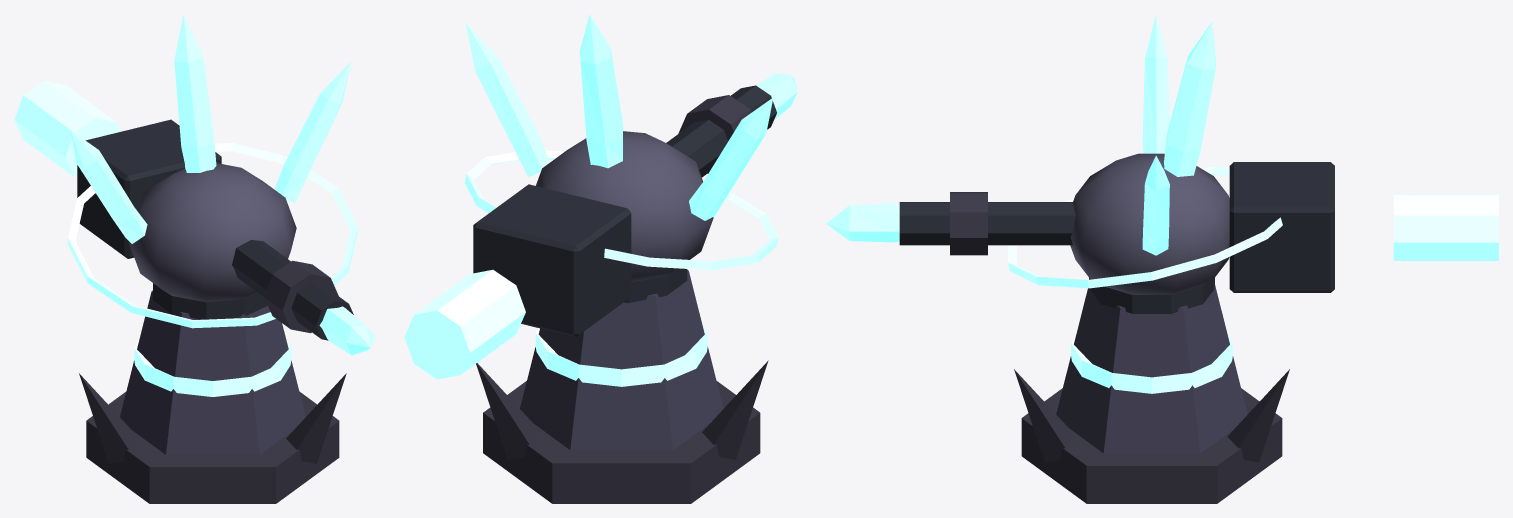
The model's file is lumen_turret.glb.
3 renders of one model, left to right at view 1: azimuth 30°, elevation 25°; view 2: azimuth 150°, elevation 25°; view 3: azimuth 270°, elevation 25°, orthographic. The views are drawn at different scales.
Parts seen in each view (by area): view 1: enemy.lumen_turret; view 2: enemy.lumen_turret; view 3: enemy.lumen_turret.
Boxes of the visible parts, box(x1,y1,x2,y2) form: enemy.lumen_turret: box(14, 14, 375, 503); enemy.lumen_turret: box(404, 14, 797, 503); enemy.lumen_turret: box(826, 14, 1498, 503).
Size of the model in its own units: 1.81 by 2.6 by 3.65.
